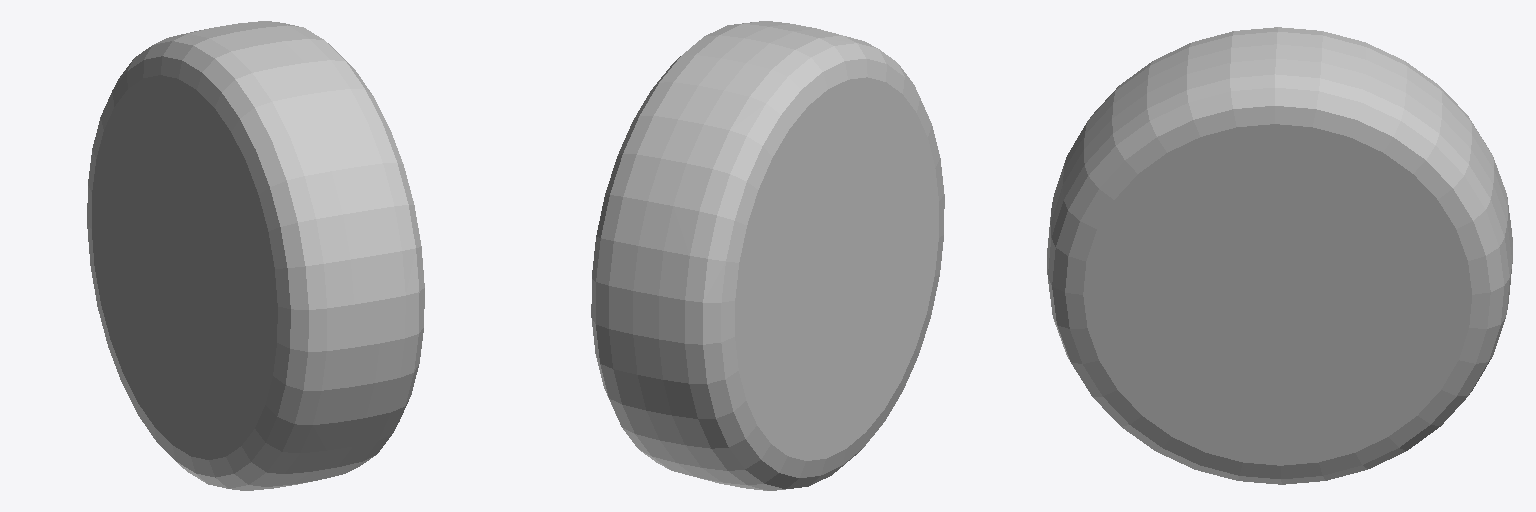
Rendered from scroll_wheel_right.obj.
3 views of the same model, side by side, from view 1: azimuth 30°, elevation 25°; view 2: azimuth 150°, elevation 25°; view 3: azimuth 270°, elevation 25° (orthographic).
Parts seen in each view (by area): view 1: scrollwheel; view 2: scrollwheel; view 3: scrollwheel.
Boxes of the visible parts, box(x1,y1,x2,y2) form: scrollwheel: box(87, 21, 424, 490); scrollwheel: box(591, 21, 944, 490); scrollwheel: box(1047, 27, 1512, 484).
Bounding box in the file's own units: 0.0089 × 0.0219 × 0.0219.